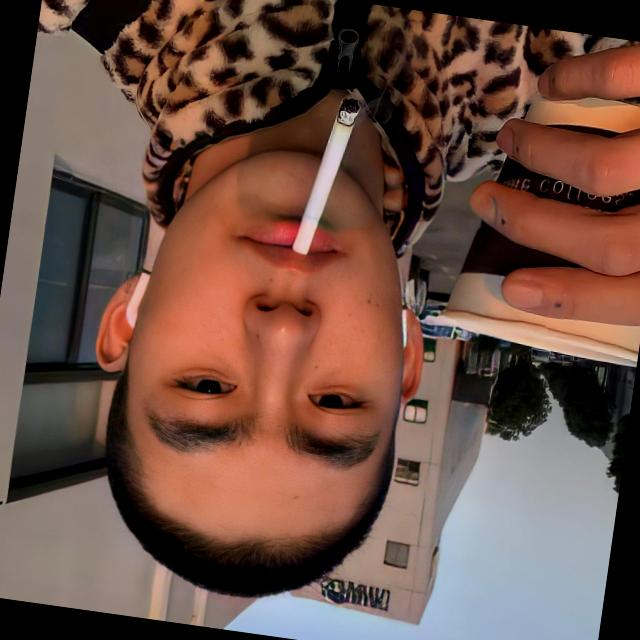smoke: (264, 66, 384, 281)
